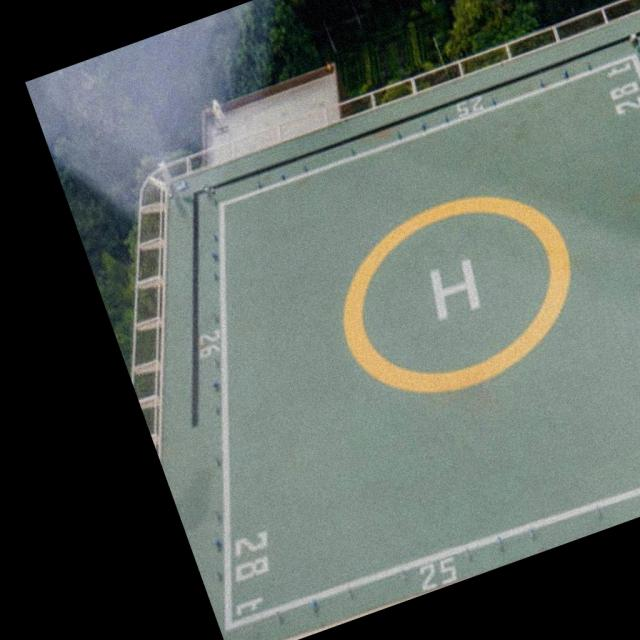helipad: (339, 190, 576, 399)
